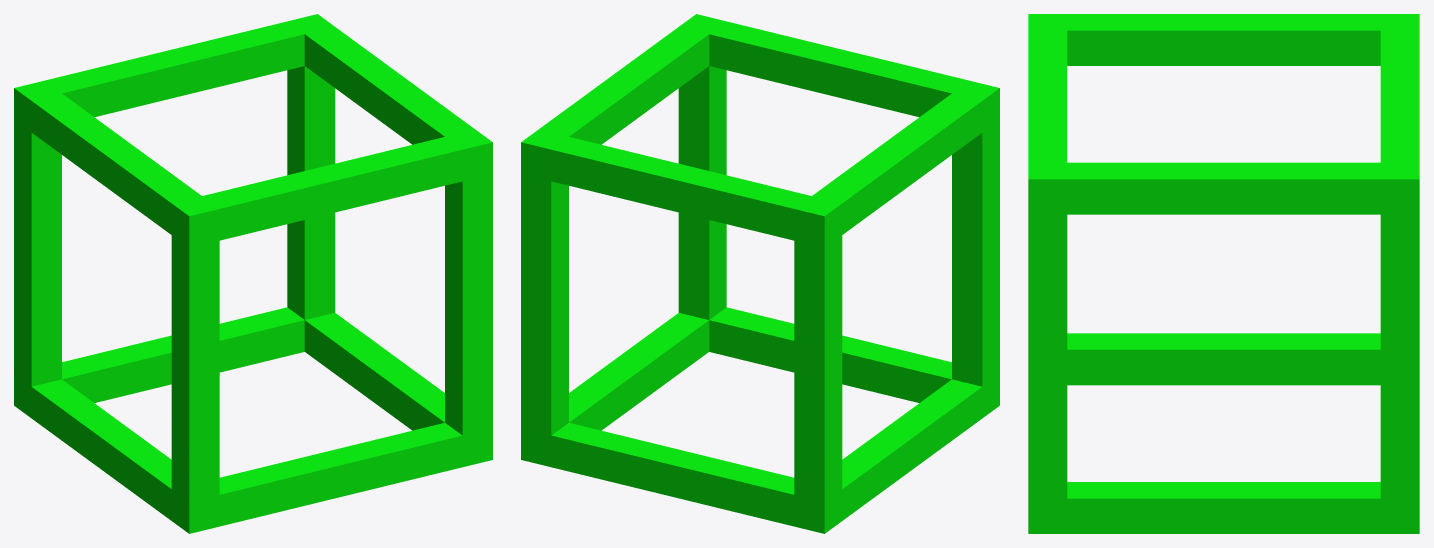
File: guide.glb
3 renders of one model, left to right at view 1: azimuth 30°, elevation 25°; view 2: azimuth 150°, elevation 25°; view 3: azimuth 270°, elevation 25°, orthographic. The views are drawn at different scales.
Parts seen in each view (by area): view 1: guide; view 2: guide; view 3: guide.
Boxes of the visible parts, left/top/right/bottom form: guide: left=14, top=14, right=492, bottom=533; guide: left=521, top=14, right=999, bottom=533; guide: left=1028, top=14, right=1419, bottom=533.
Size of the model in its own units: 1 by 1 by 1.
